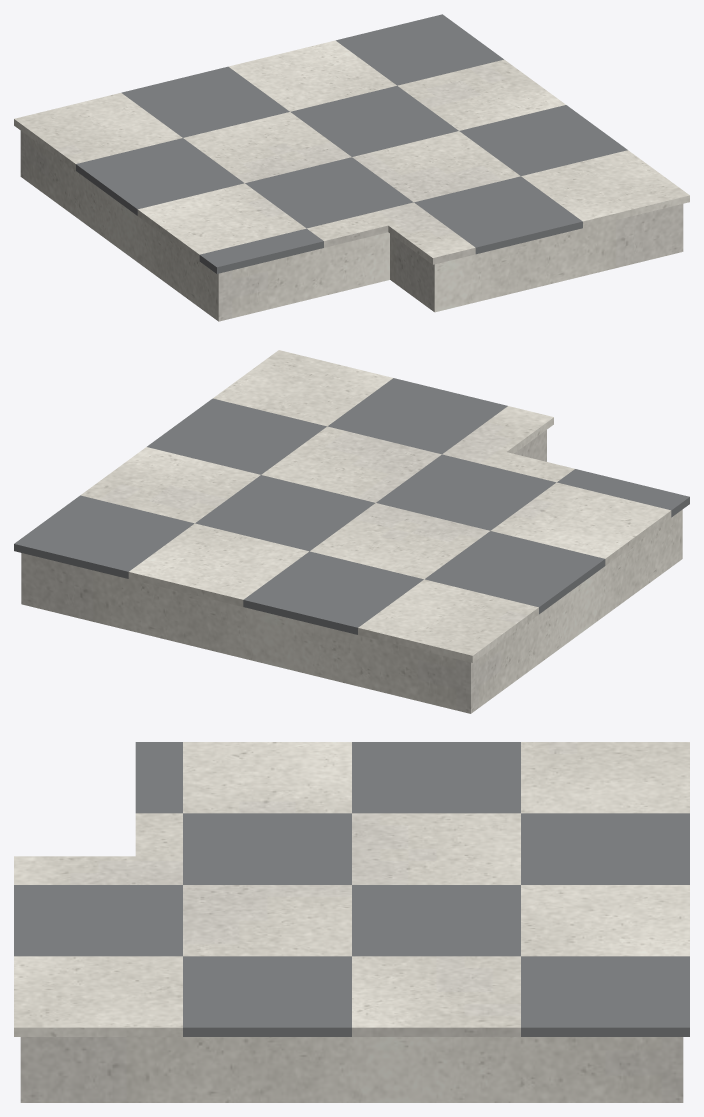
The model's file is floor_marble_u_h2.glb.
3 renders of one model, top to bottom at view 1: azimuth 30°, elevation 25°; view 2: azimuth 150°, elevation 25°; view 3: azimuth 270°, elevation 25°, orthographic. The views are drawn at different scales.
Parts seen in each view (by area): view 1: floor_marble_u_h2_marble, floor_marble_u_h2_slate, floor_marble_u_h2_plaster; view 2: floor_marble_u_h2_marble, floor_marble_u_h2_slate, floor_marble_u_h2_plaster; view 3: floor_marble_u_h2_marble, floor_marble_u_h2_slate, floor_marble_u_h2_plaster.
Boxes of the visible parts, x1,y1,x2,y2 form: floor_marble_u_h2_marble: (14, 40, 689, 264); floor_marble_u_h2_slate: (76, 14, 627, 273); floor_marble_u_h2_plaster: (20, 131, 683, 321); floor_marble_u_h2_marble: (80, 350, 671, 662); floor_marble_u_h2_slate: (14, 378, 689, 634); floor_marble_u_h2_plaster: (21, 430, 682, 713); floor_marble_u_h2_marble: (14, 742, 689, 1036); floor_marble_u_h2_slate: (14, 742, 689, 1036); floor_marble_u_h2_plaster: (20, 1037, 683, 1102).
Size of the model in its own units: 2 by 0.255 by 2.
3 materials, 2 textured.
